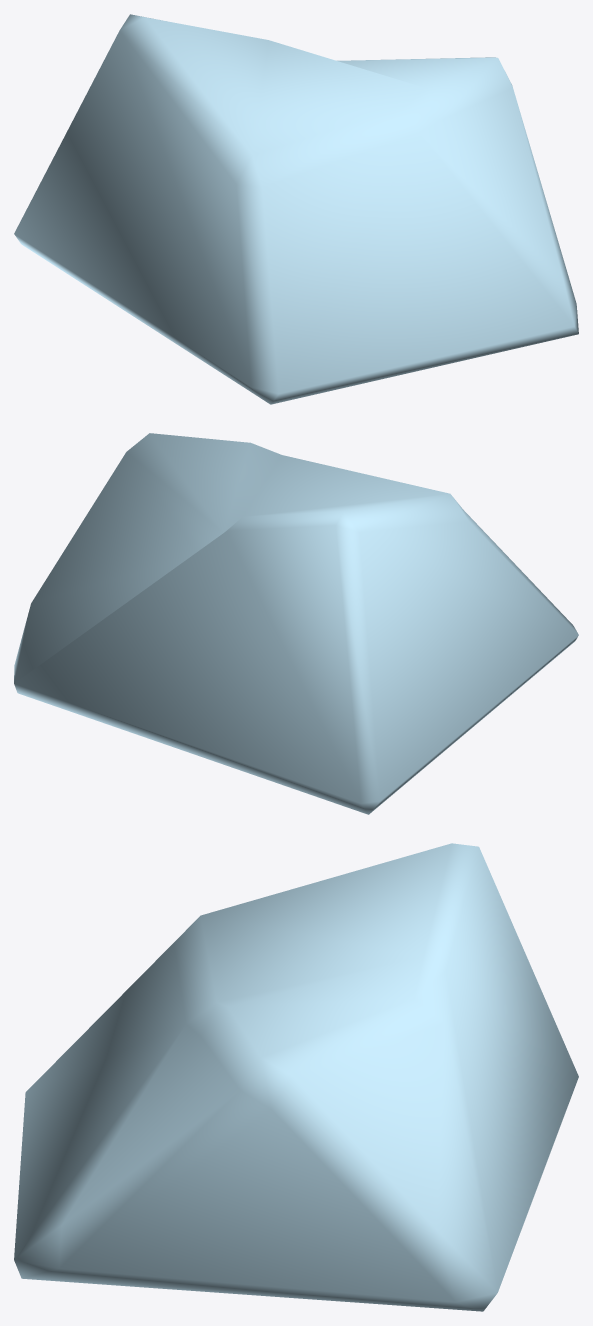
File: StoneSmall2.fbx
The picture shows the model from 3 angles, top to bottom: view 1: azimuth 30°, elevation 25°; view 2: azimuth 150°, elevation 25°; view 3: azimuth 270°, elevation 25°; orthographic projection. The views are drawn at different scales.
Parts seen in each view (by area): view 1: StoneSmall2_LOD0; view 2: StoneSmall2_LOD0; view 3: StoneSmall2_LOD0.
Boxes of the visible parts, x1,y1,x2,y2 form: StoneSmall2_LOD0: (14,14,578,404); StoneSmall2_LOD0: (14,433,578,814); StoneSmall2_LOD0: (14,843,578,1311).
Size of what is drawn, in the model's own units: 159 by 91.76 by 162.
